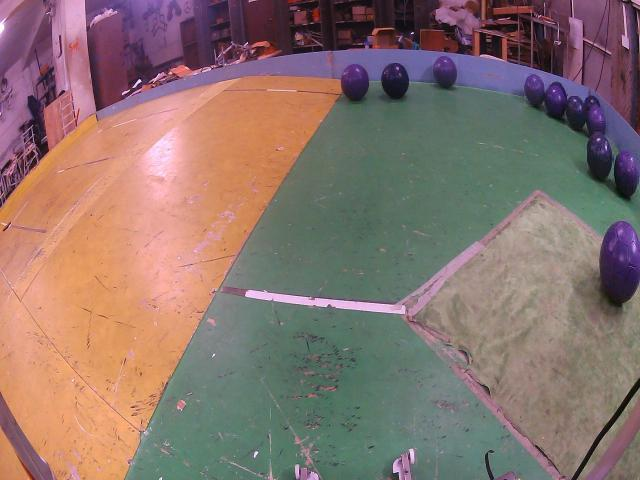jambhalya: (600, 222, 640, 304), (615, 150, 638, 198), (341, 64, 369, 100), (432, 57, 458, 88), (545, 85, 567, 118), (524, 75, 546, 106), (587, 106, 607, 136)
kaalyya: (587, 134, 613, 180), (381, 64, 409, 98), (566, 97, 587, 129), (585, 95, 600, 111)
